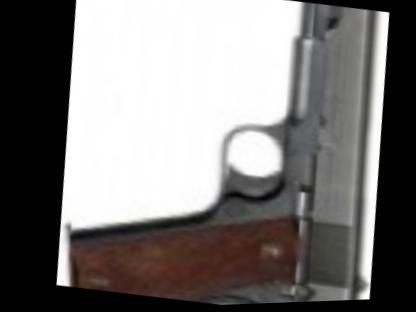pistol: (35, 0, 410, 310)
